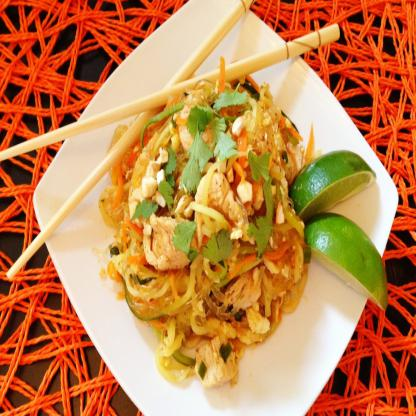Pad Thai: (81, 53, 388, 396)
